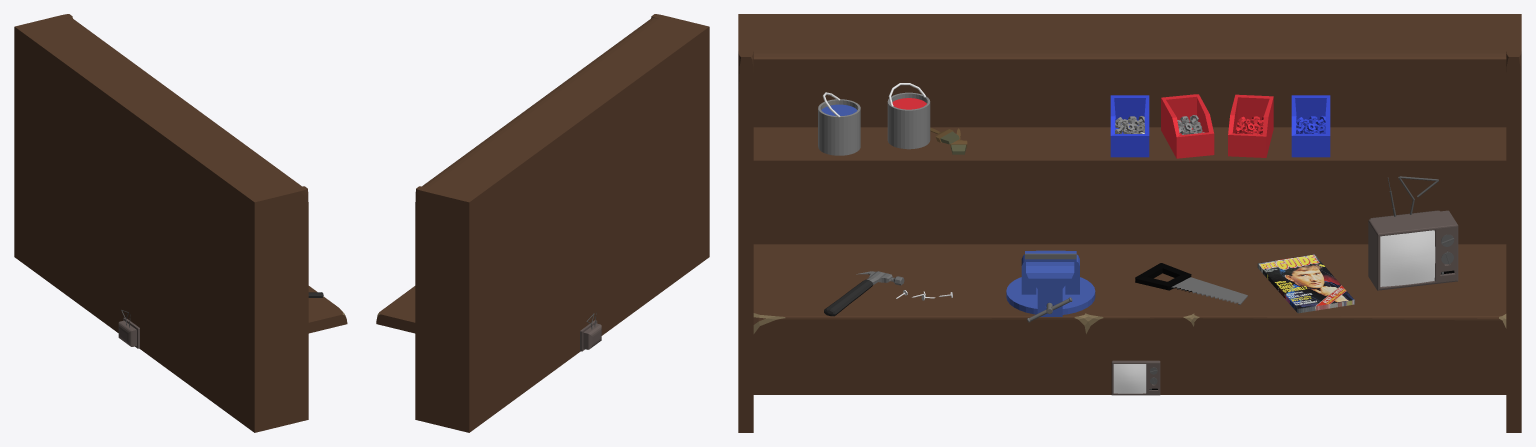
The model's file is M_009.Tool Bench.fbx.
The picture shows the model from 3 angles, left to right: view 1: azimuth 30°, elevation 25°; view 2: azimuth 150°, elevation 25°; view 3: azimuth 270°, elevation 25°; orthographic projection. The views are drawn at different scales.
Parts seen in each view (by area): view 1: Shelf, TV Shell.001; view 2: Shelf, TV Shell.001; view 3: Shelf, Antenna, Plane, Screw Bucket1.001, Screen, Cylinder.002, Screw Bucket1.002, Screw Bucket1.003, Screw Bucket1, Blue Bucket.001, Blue Bucket, Saw (+4 smaller).
Part boxes in pixels (x1,y1,x2,y2): Shelf: (14, 14, 347, 432); TV Shell.001: (118, 317, 139, 348); Shelf: (376, 14, 709, 432); TV Shell.001: (580, 320, 601, 351); Shelf: (738, 14, 1521, 432); Antenna: (1368, 176, 1458, 290); Plane: (1257, 254, 1354, 313); Screw Bucket1.001: (1161, 94, 1214, 158); Screen: (1380, 230, 1435, 286); Cylinder.002: (1006, 250, 1095, 314); Screw Bucket1.002: (1228, 94, 1273, 157); Screw Bucket1.003: (1291, 95, 1330, 157); Screw Bucket1: (1110, 95, 1149, 157); Blue Bucket.001: (887, 92, 930, 149); Blue Bucket: (818, 99, 860, 155); Saw: (1135, 263, 1247, 304).
Bounding box in the file's own units: 3749 × 6778 × 12800.
